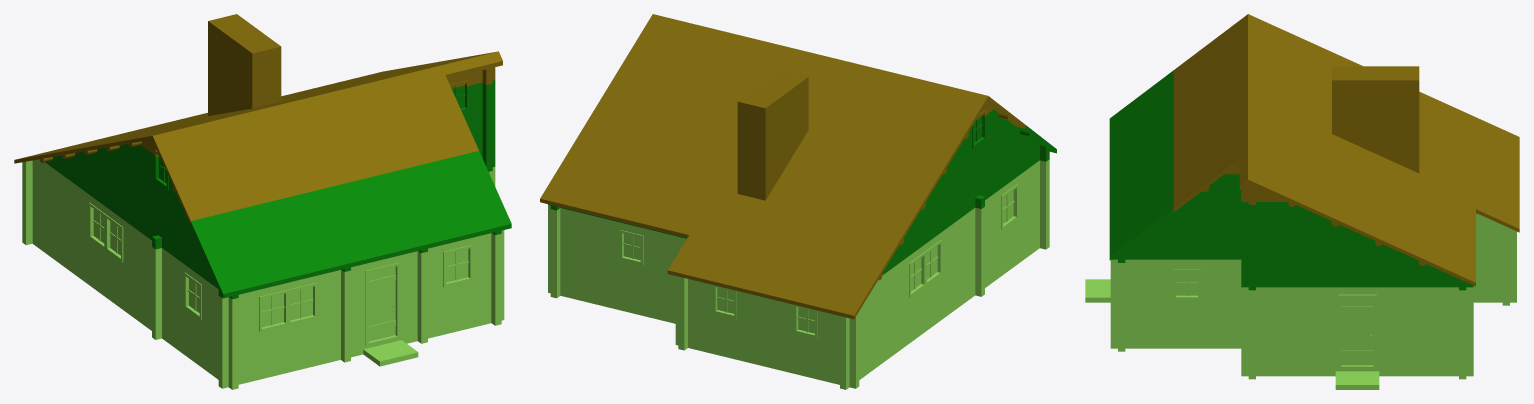
The model's file is cabin.obj.
3 renders of one model, left to right at view 1: azimuth 30°, elevation 25°; view 2: azimuth 150°, elevation 25°; view 3: azimuth 270°, elevation 25°, orthographic. The views are drawn at different scales.
Visible parts, largest first — view 1: Layer0_001, Roof_001, Second_Floor_001; view 2: Roof_001, Layer0_001, Second_Floor_001; view 3: Roof_001, Layer0_001, Second_Floor_001.
Part boxes in pixels (x1=…): Layer0_001: x1=22, y1=159, x2=504, y2=389; Roof_001: x1=14, y1=14, x2=502, y2=224; Second_Floor_001: x1=45, y1=79, x2=511, y2=299; Roof_001: x1=540, y1=14, x2=1025, y2=319; Layer0_001: x1=548, y1=159, x2=1049, y2=389; Second_Floor_001: x1=548, y1=109, x2=1056, y2=275; Roof_001: x1=1173, y1=14, x2=1519, y2=286; Layer0_001: x1=1085, y1=213, x2=1516, y2=389; Second_Floor_001: x1=1109, y1=70, x2=1476, y2=290.
Bounding box in the file's own units: 11582 × 6706 × 12160.
